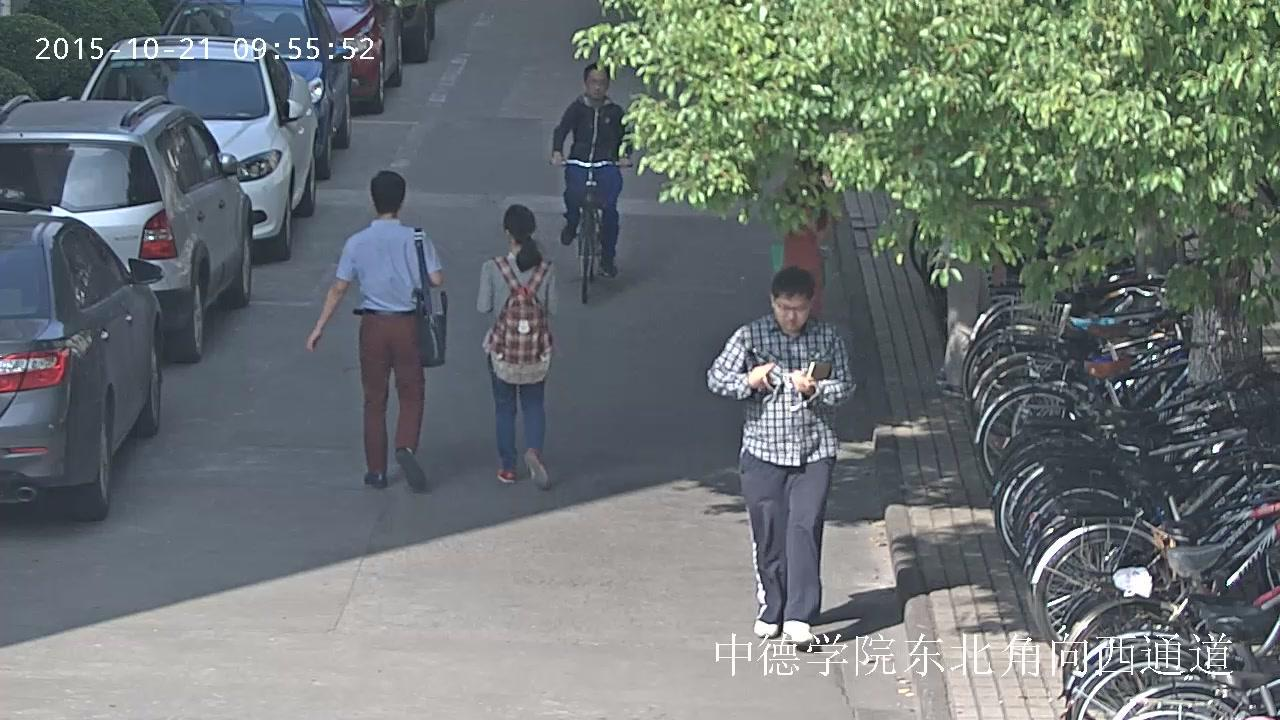face: (775, 293, 810, 329), (586, 69, 608, 99)
